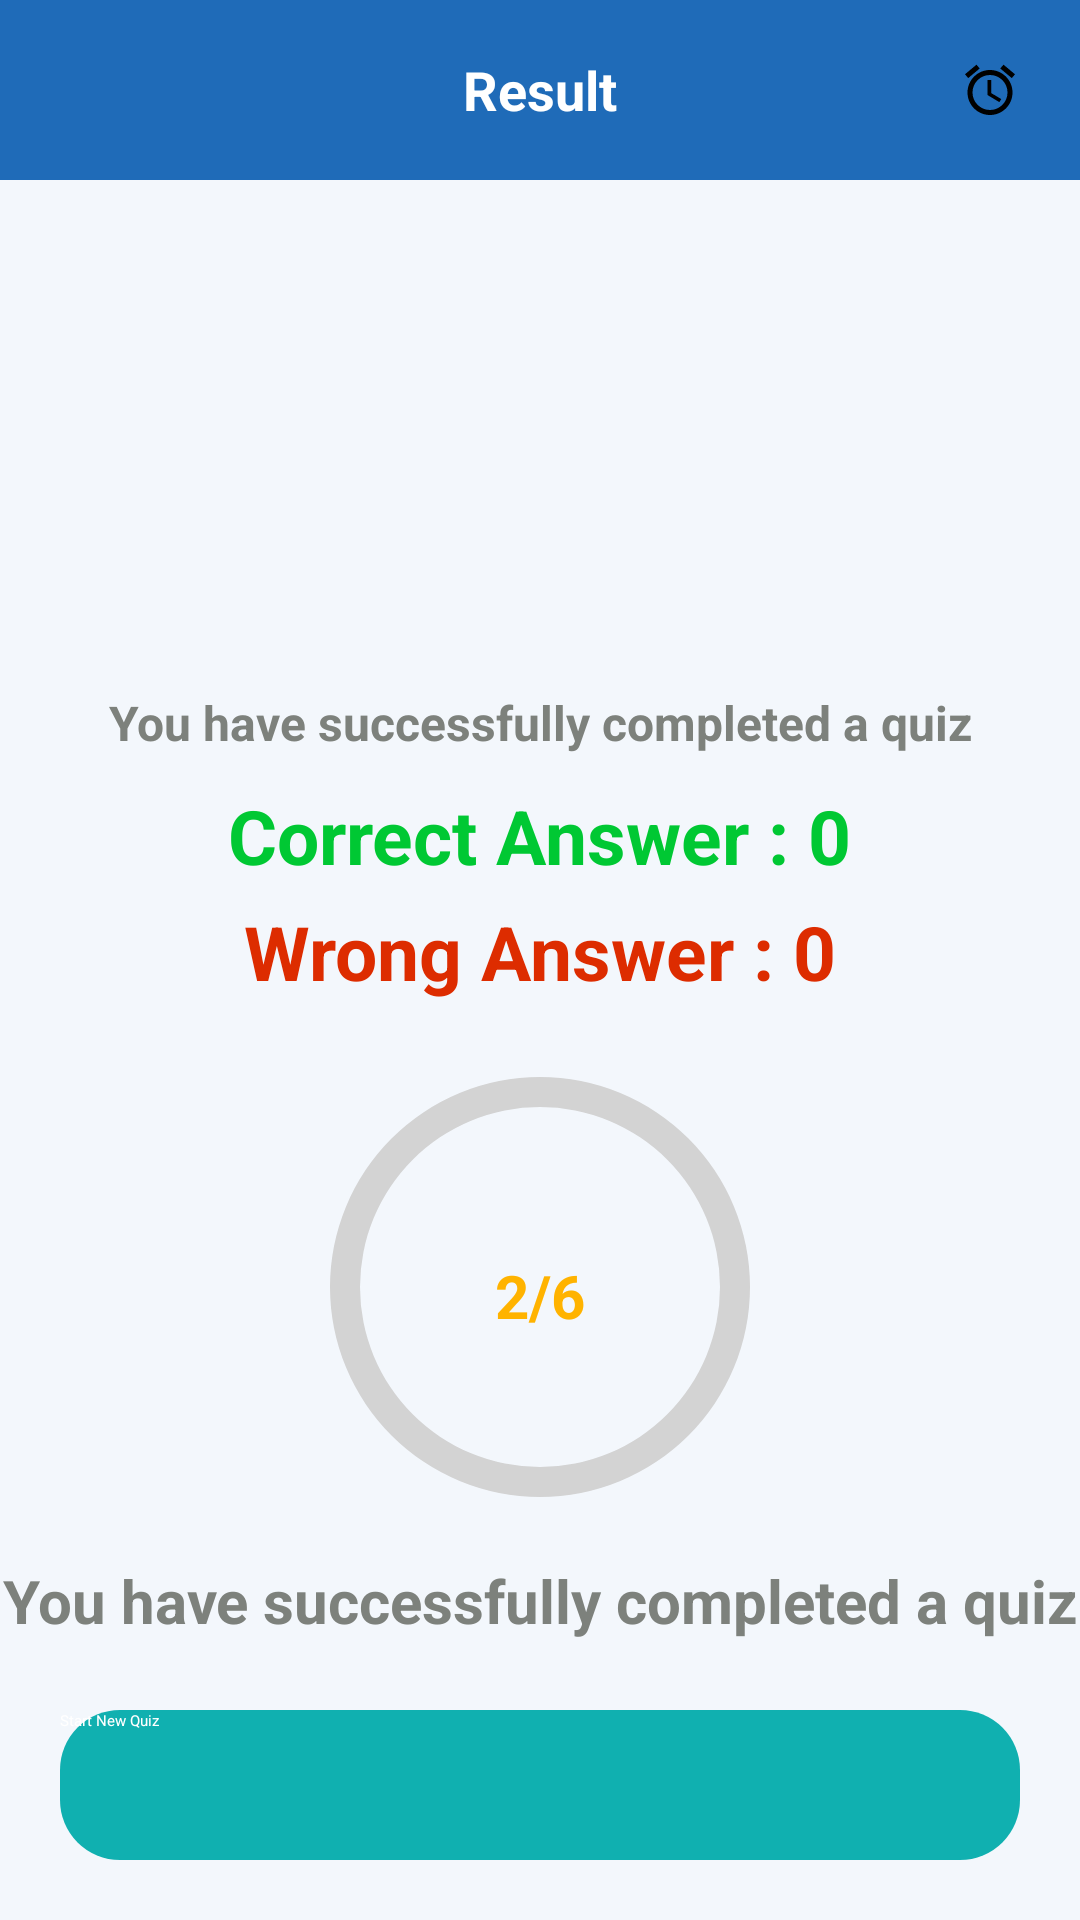

Icons on this 1080px x 1920px Android screen, each with its box as (x1, y1, x2, y2):
timer: (965, 65, 1015, 115)
